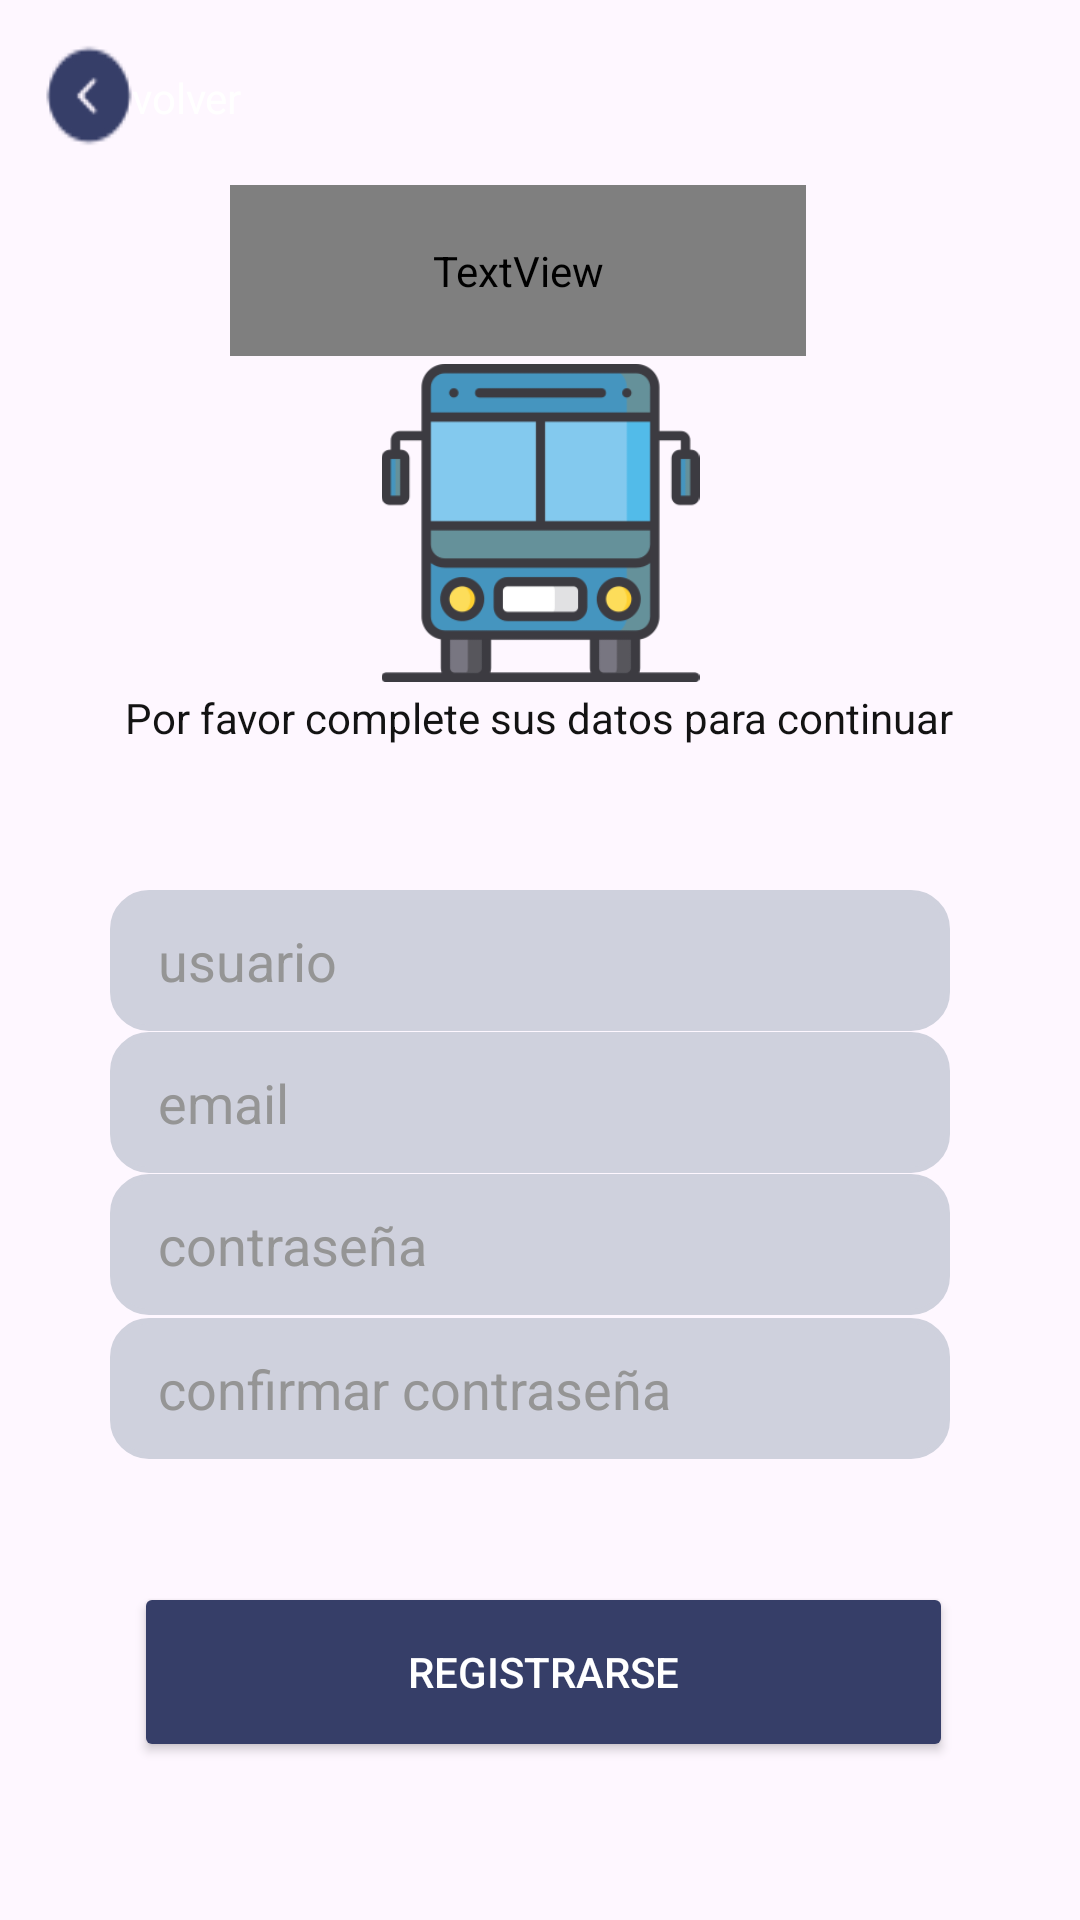

Named icons in this screenshot (1080×1920) and their centers, [x,y]:
left: [89,95]
transporte publico: [541,523]
